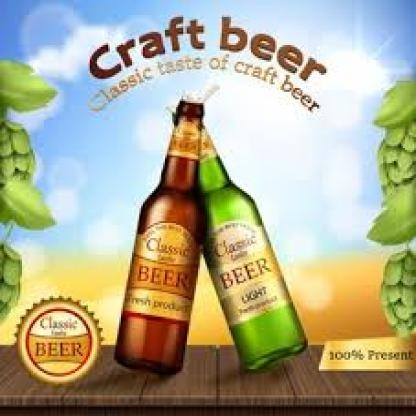trash: (199, 128, 306, 370), (115, 101, 203, 373)
